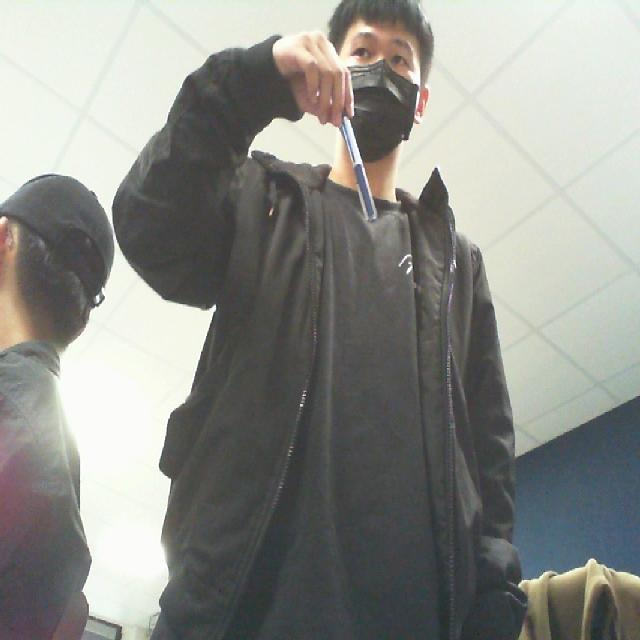Pen: (326, 107, 387, 246)
